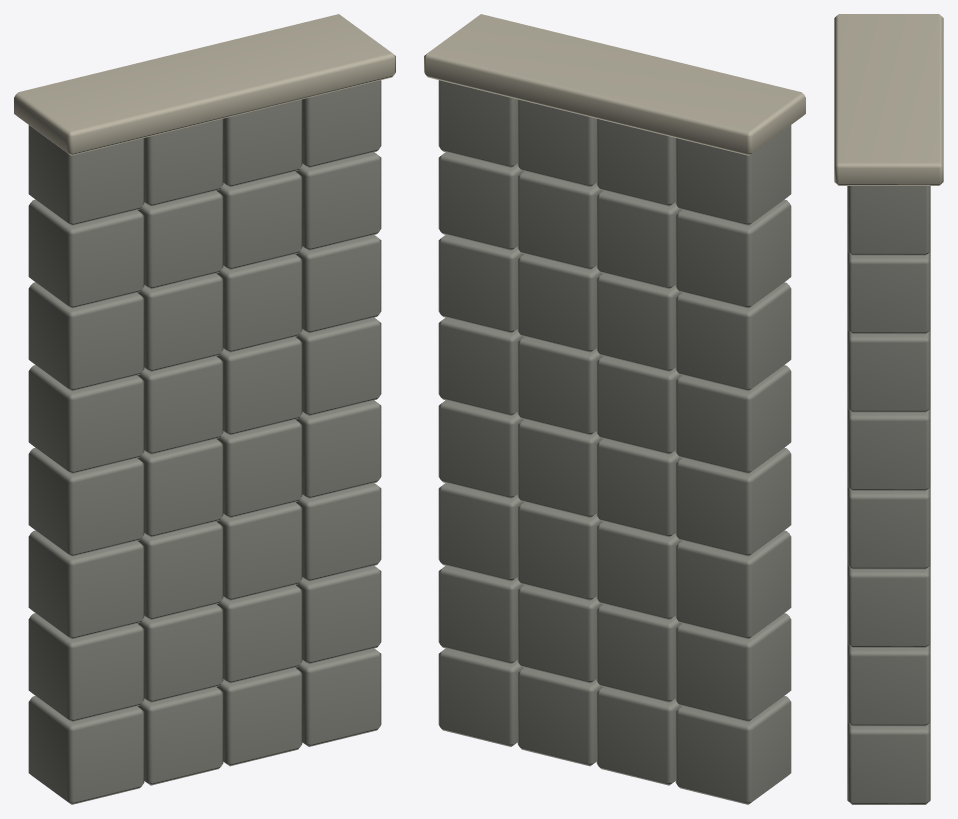
The model's file is PerimeterWall02.fbx.
The picture shows the model from 3 angles, left to right: view 1: azimuth 30°, elevation 25°; view 2: azimuth 150°, elevation 25°; view 3: azimuth 270°, elevation 25°; orthographic projection. The views are drawn at different scales.
Visible parts, largest first — view 1: PerimeterWall02; view 2: PerimeterWall02; view 3: PerimeterWall02.
Part boxes in pixels (x1,y1,x2,y2): PerimeterWall02: (14,14,395,804); PerimeterWall02: (424,14,805,804); PerimeterWall02: (834,14,943,804).
Bounding box in the file's own units: 208 × 412 × 63.
